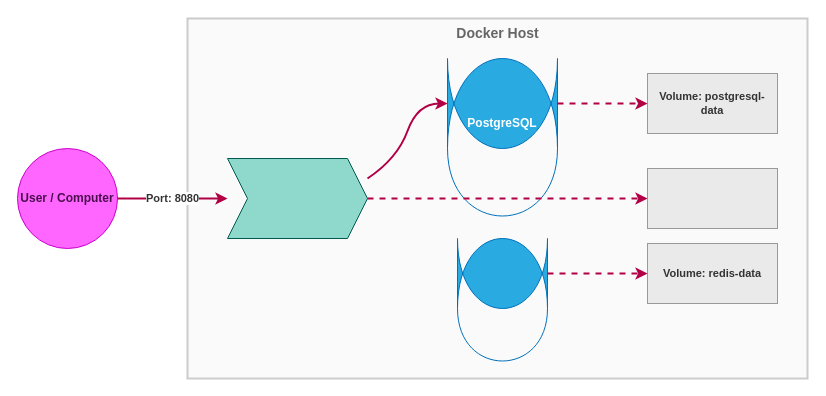
Image size: 826x396. Some labels were removed from this diagram. Here are the shapes that lost their labels. From the top down, the centre of each, then its label:
point (297, 198): Label Studio
point (712, 198): Volume: label-studio-data
point (502, 273): Redis
